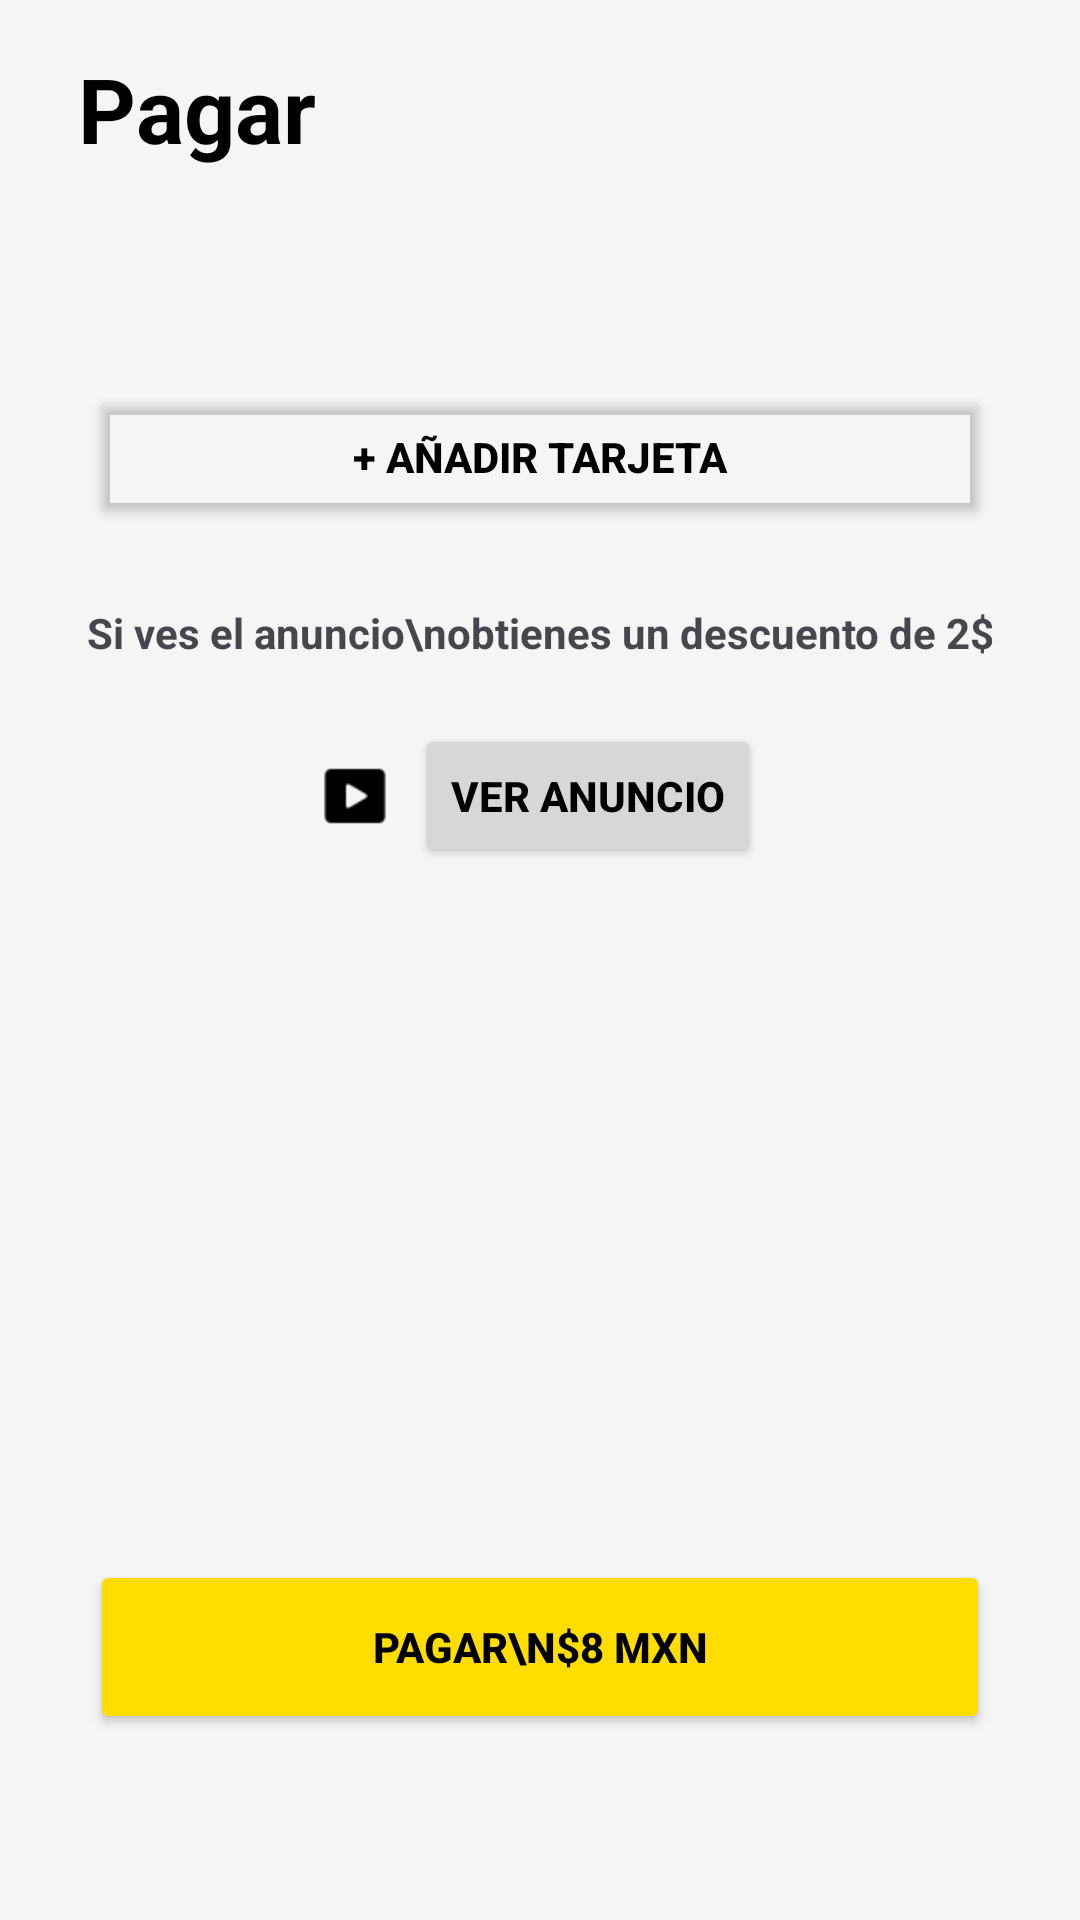

Icons on this 1080 × 1920 Android screen, each with the point to tap as [x,y]:
video: [355,796]
